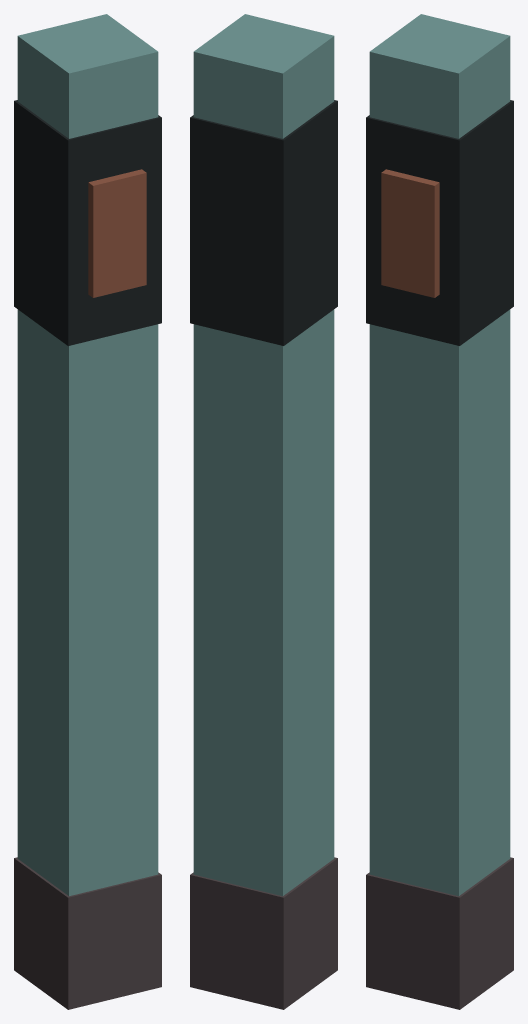
Rendered from stalpisor.glb.
3 views of the same model, side by side, from view 1: azimuth 30°, elevation 25°; view 2: azimuth 150°, elevation 25°; view 3: azimuth 330°, elevation 25° (orthographic).
Visible parts, largest first — view 1: Stalpisor, Reflector; view 2: Stalpisor; view 3: Stalpisor, Reflector.
Part boxes in pixels (x1,y1,x2,y2): Stalpisor: [14, 14, 161, 1009]; Reflector: [88, 169, 146, 297]; Stalpisor: [190, 14, 337, 1009]; Stalpisor: [366, 14, 513, 1009]; Reflector: [381, 169, 439, 297].
Size of the model in its own units: 0.105 by 1 by 0.1145.
